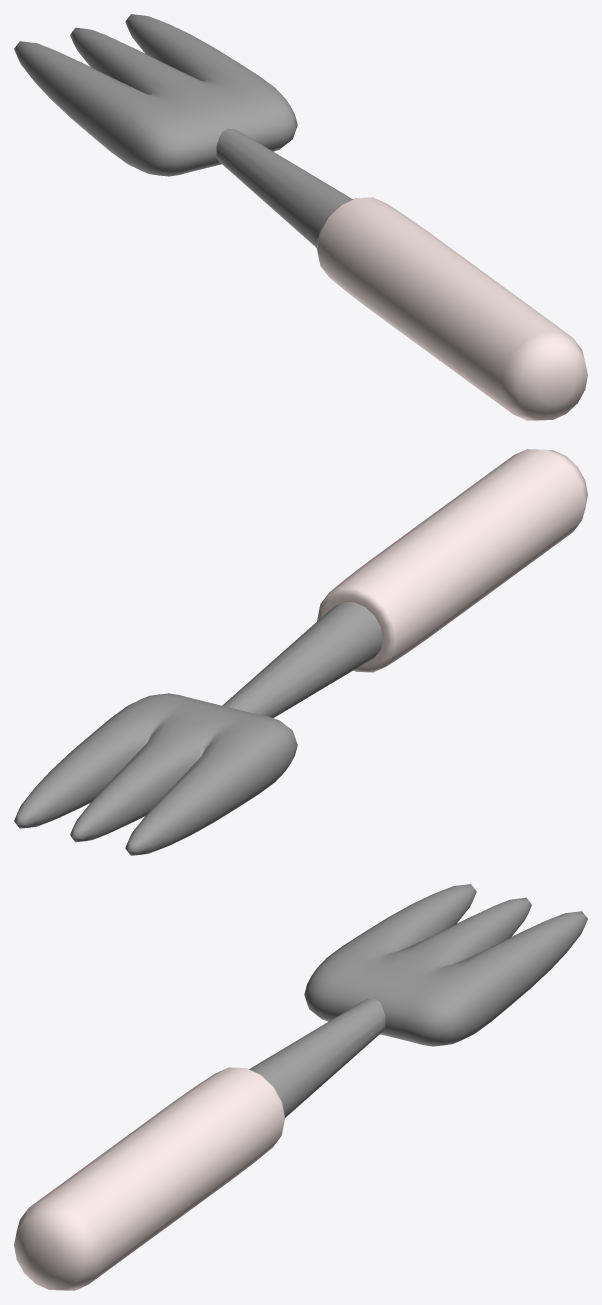
The model's file is Fork.fbx.
The picture shows the model from 3 angles, top to bottom: view 1: azimuth 30°, elevation 25°; view 2: azimuth 150°, elevation 25°; view 3: azimuth 330°, elevation 25°; orthographic projection.
Visible parts, largest first — view 1: Fork; view 2: Fork; view 3: Fork.
Part boxes in pixels (<box>): Fork: <box>14,14,587,420</box>; Fork: <box>14,449,587,855</box>; Fork: <box>14,884,587,1290</box>.
Size of the model in its own units: 4.79 by 2.51 by 25.02.
